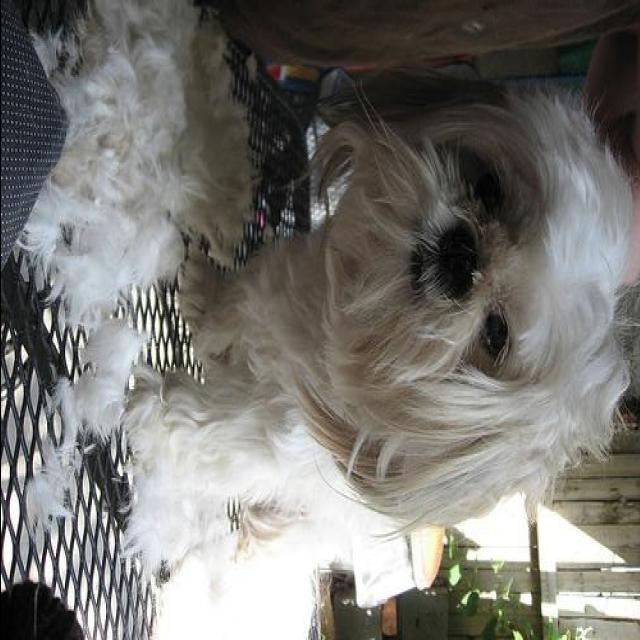shih_tzu: (126, 83, 640, 636)
